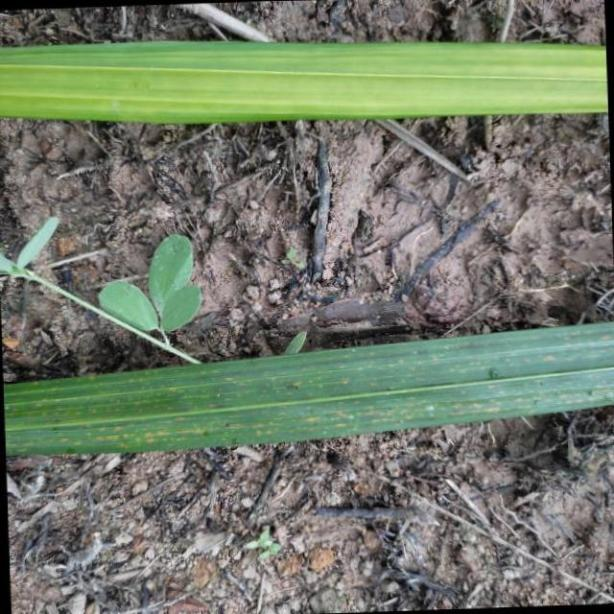nitrogen: (5, 326, 614, 459), (0, 32, 614, 125)
